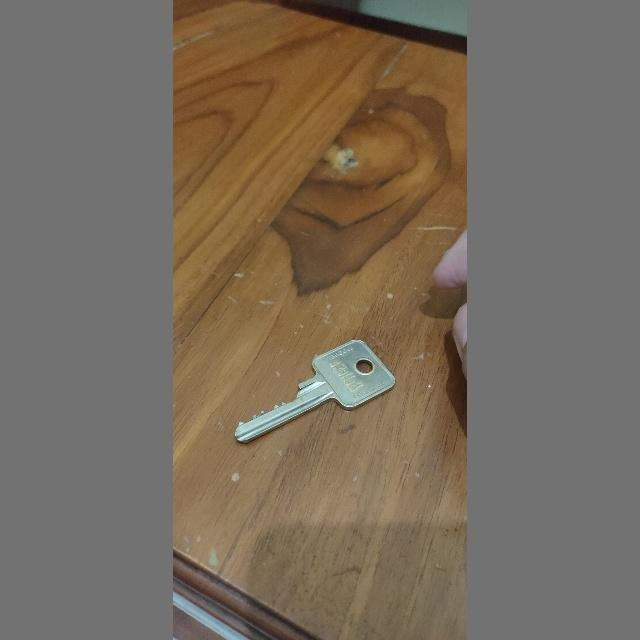Keys: (231, 334, 403, 454)
